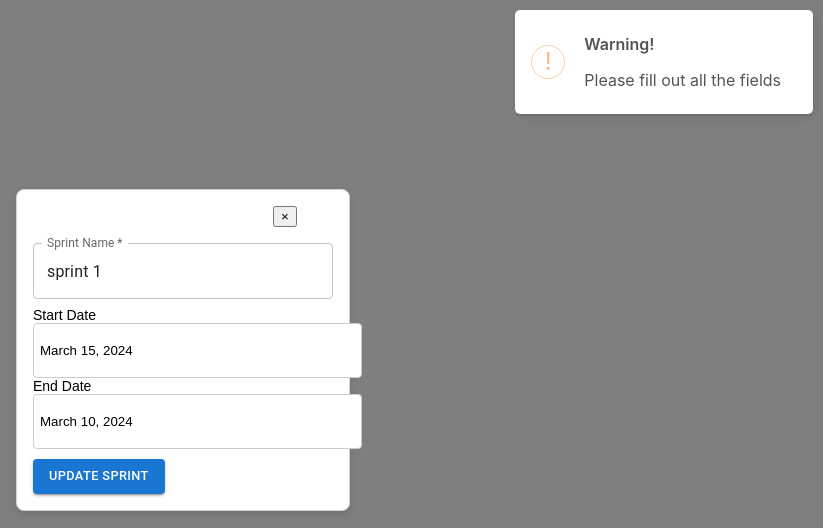
AddDate Component › displays error message when end date is less than or equal to start date
This screenshot has width=823, height=528.
Click the button with test id "sprint-submit".
click(99, 476)  # box left=33, top=459, right=165, bottom=494
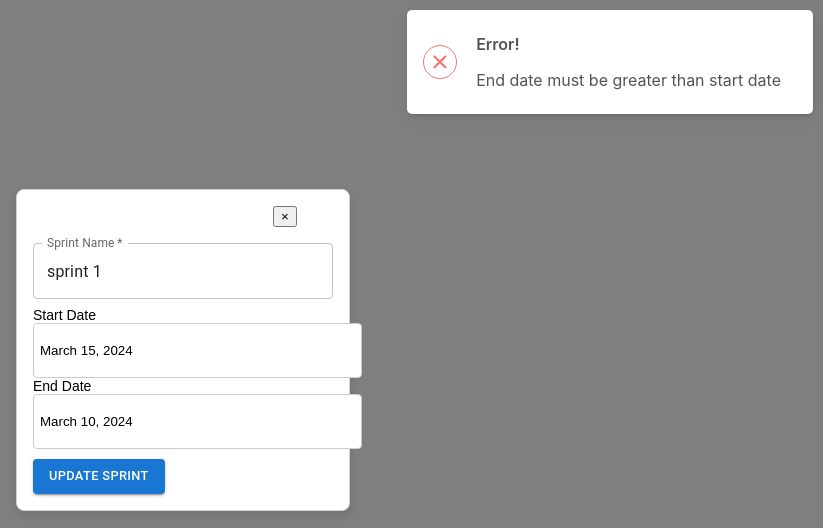
Now the text "End date must be greater than start date" is shown, box left=476, top=70, right=781, bottom=90
